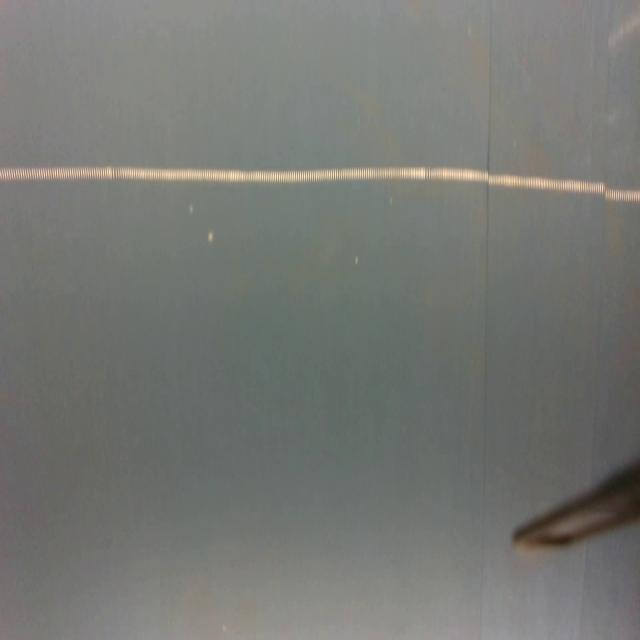crease: (478, 1, 494, 640), (589, 198, 605, 480)
hole: (386, 193, 396, 211), (188, 202, 196, 220), (207, 232, 217, 245), (353, 255, 361, 271)
